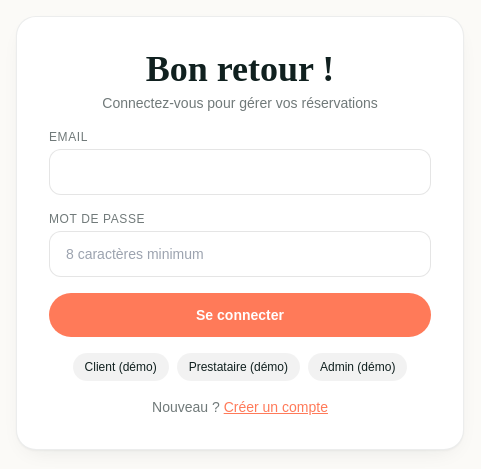
Scenario: page de connexion › remplit les identifiants de démonstration
The image size is (481, 469).
Step 1. Click the button "Client (démo)" → (121, 367), box [73,353,169,381]
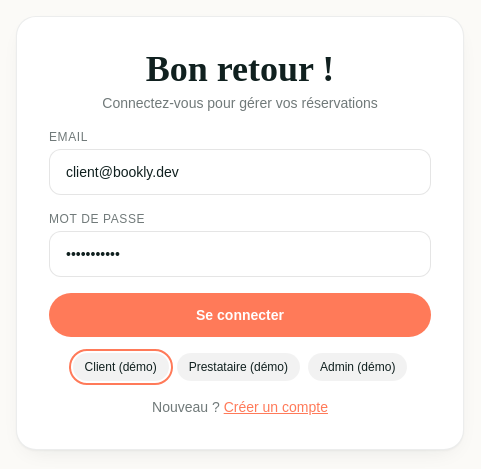
Check: the field holds "client@bookly.dev", box [49,149,431,195]
Check: the password field holds "Bookly2026!", box [49,231,431,277]
